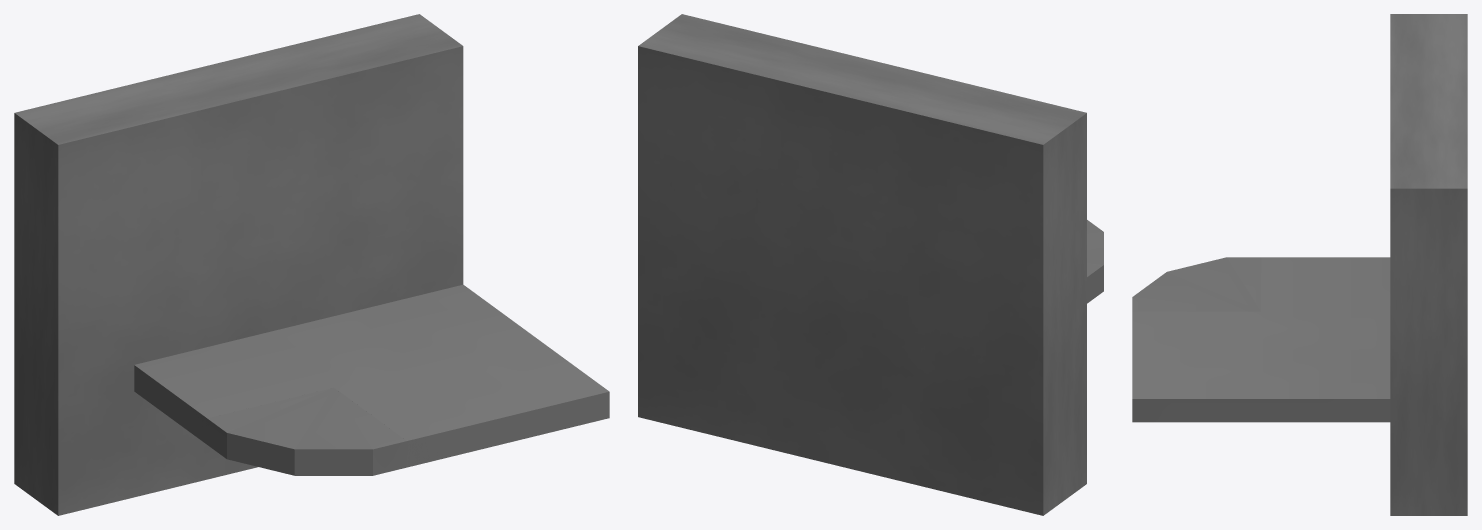
File: dc_metro_fence_001.obj
3 renders of one model, left to right at view 1: azimuth 30°, elevation 25°; view 2: azimuth 150°, elevation 25°; view 3: azimuth 270°, elevation 25°, orthographic. The views are drawn at different scales.
Parts seen in each view (by area): view 1: cube, cylinder; view 2: cube, cylinder; view 3: cube, cylinder.
Part boxes in pixels (x1,y1,x2,y2): cube: (14,14,609,515); cylinder: (189,387,440,475); cube: (638,14,1086,515); cylinder: (1087,220,1103,303); cube: (1132,14,1467,515); cylinder: (1132,257,1261,311).
Size of the model in its own units: 1 by 0.875 by 0.8125.
1 material, 1 textured.
